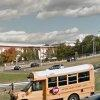Bus: (27, 67, 97, 100)
